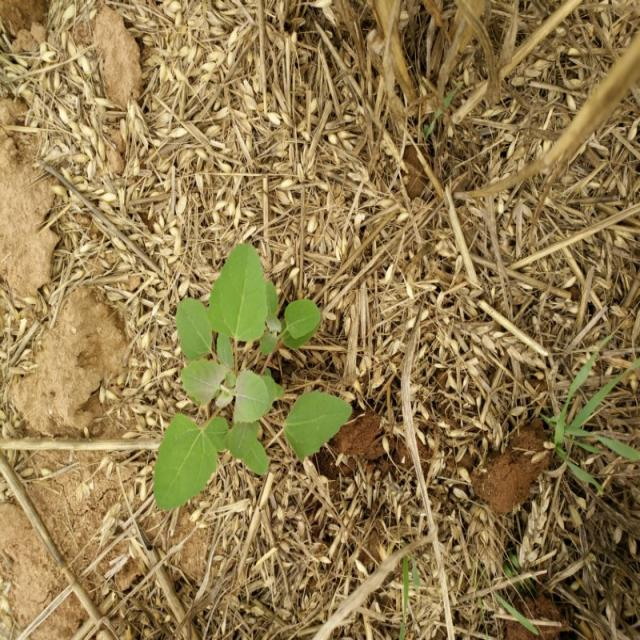ca: (156, 245, 352, 512)
